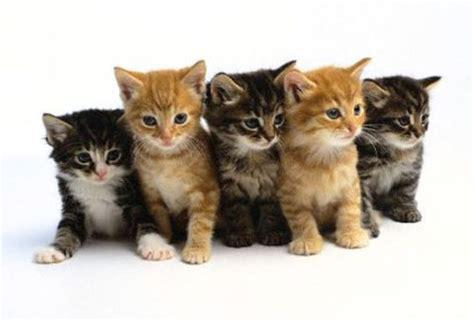cat: (32, 108, 176, 263), (113, 59, 218, 264), (280, 58, 371, 254), (205, 59, 298, 247), (357, 75, 441, 238)
